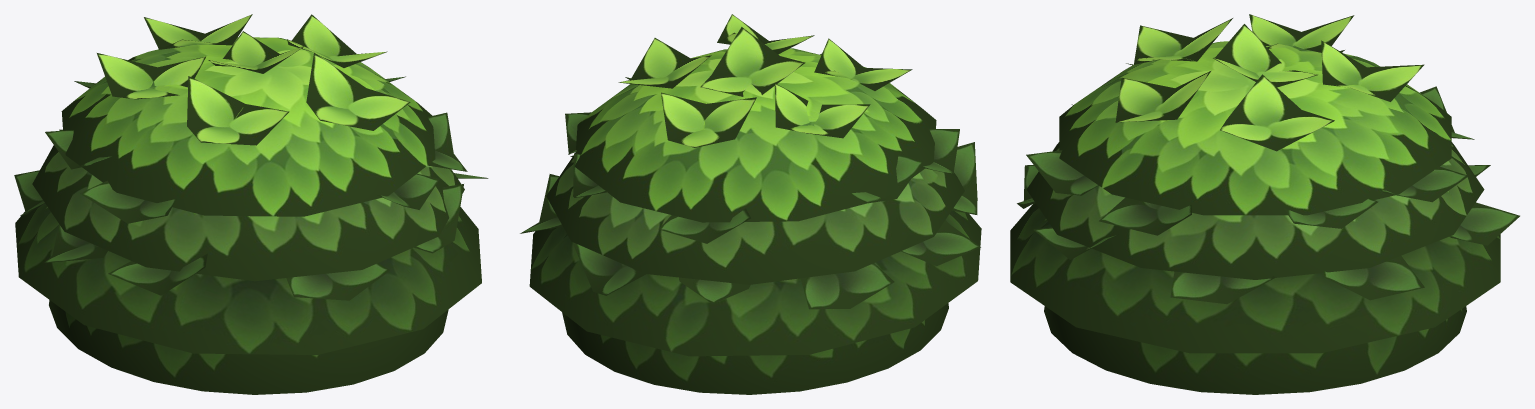
The model's file is camp_bush.gltf.
3 renders of one model, left to right at view 1: azimuth 30°, elevation 25°; view 2: azimuth 150°, elevation 25°; view 3: azimuth 270°, elevation 25°, orthographic. The views are drawn at different scales.
Parts seen in each view (by area): view 1: stylized bush; view 2: stylized bush; view 3: stylized bush.
Boxes of the visible parts, bbox=[...] form: stylized bush: bbox=[14, 14, 488, 394]; stylized bush: bbox=[520, 14, 981, 394]; stylized bush: bbox=[1010, 14, 1519, 394].
Bounding box in the file's own units: 1.51 × 0.9624 × 1.58.
1 material, 1 textured.
